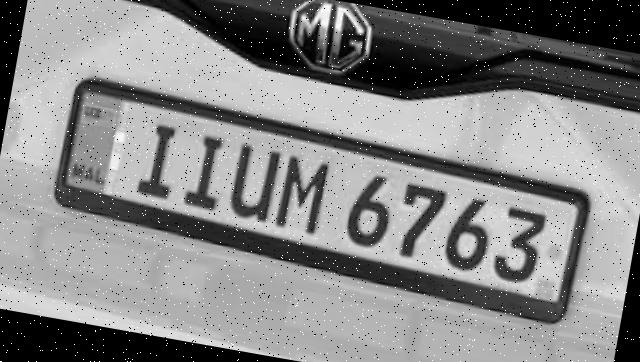License_Plate: (46, 73, 597, 328)
